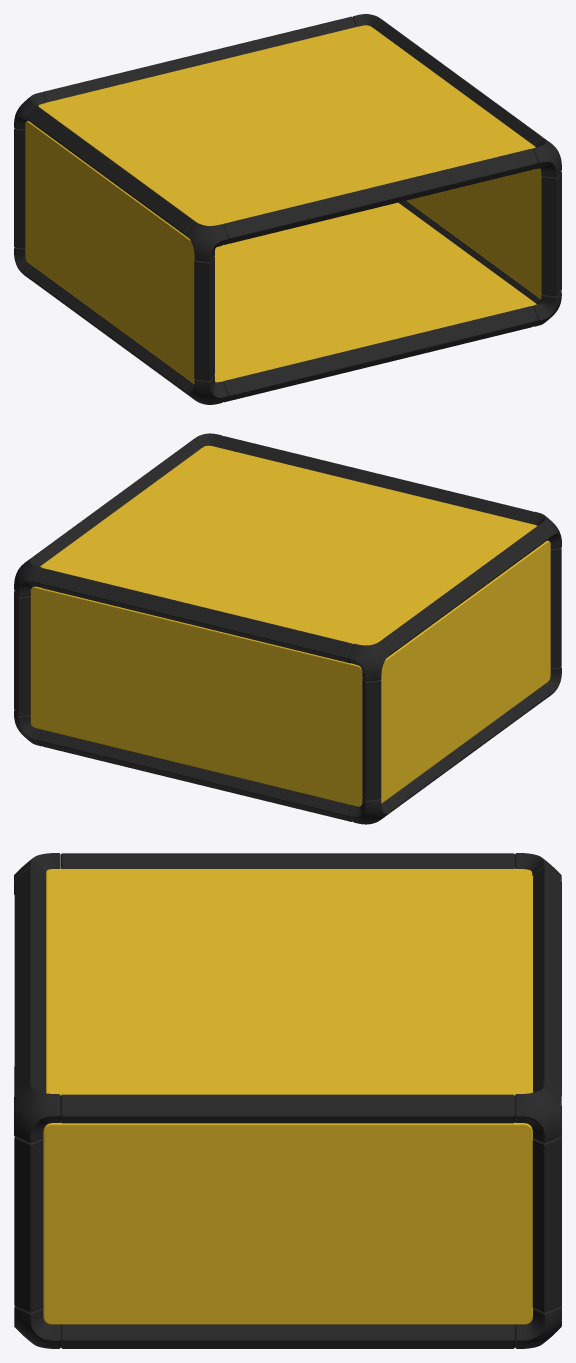
3 renders of one model, top to bottom at view 1: azimuth 30°, elevation 25°; view 2: azimuth 150°, elevation 25°; view 3: azimuth 270°, elevation 25°, orthographic. The views are drawn at different scales.
Visible parts, largest first — view 1: 420x374x154; view 2: 420x374x154; view 3: 420x374x154.
Part boxes in pixels (x1,y1,x2,y2): 420x374x154: (14, 14, 561, 404); 420x374x154: (14, 433, 561, 824); 420x374x154: (14, 853, 561, 1348).
Bounding box in the file's own units: 0.4977 × 0.2316 × 0.4513.
